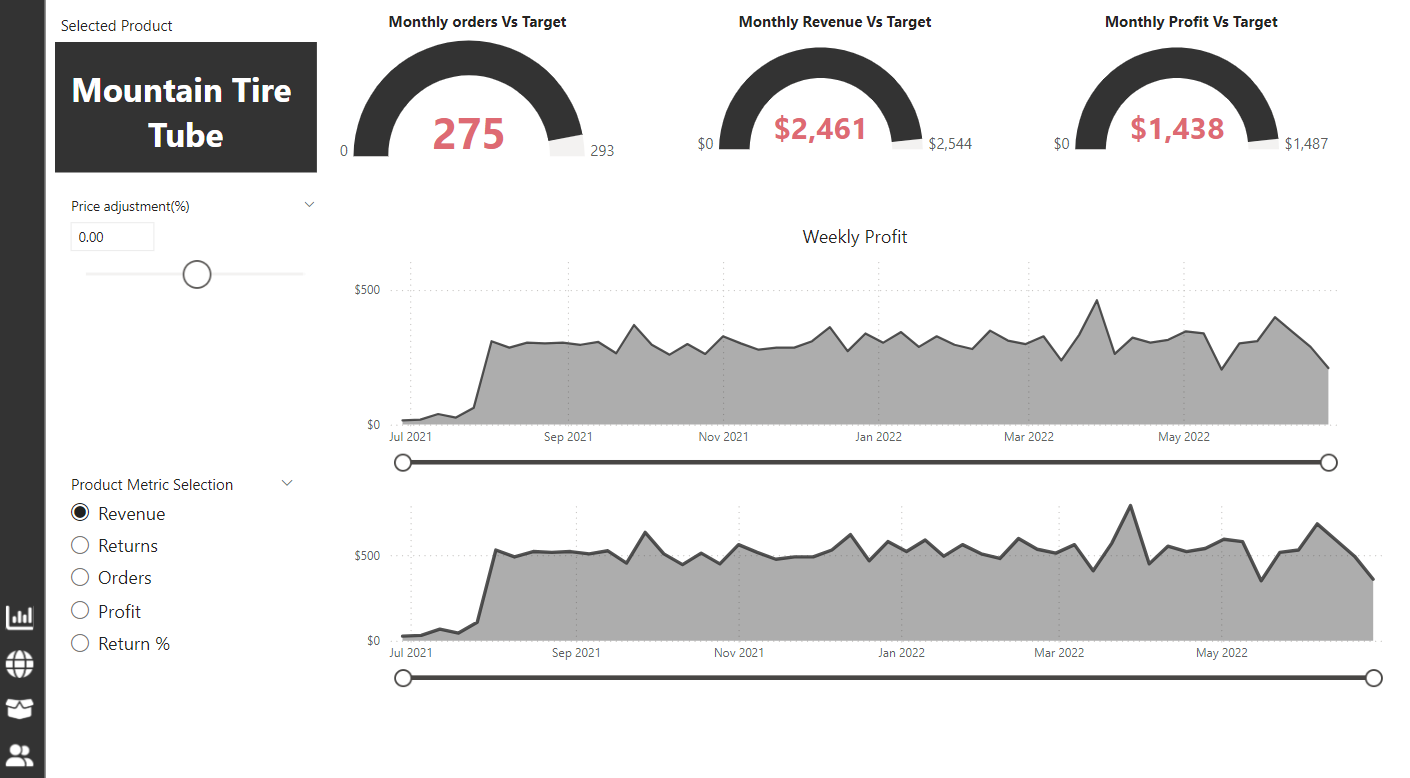

The page's visual inventory and layout, read from the dashboard file:
{"tool":"powerbi","page":{"name":"Product Detail","canvas":[1280,720],"ordinal":2},"visuals":[{"type":"shape","box":[0,0,45,720.5],"z":0},{"type":"gauge","title":"Monthly orders Vs Target","fields":{"Y":["Measure Table.Total Orders"],"MaxValue":["Measure Table.Order Target"]},"box":[296.8,16.9,264.2,143.6],"z":1000},{"type":"actionButton","box":[5.1,540.5,49.5,32.6],"z":1000,"group":"g1"},{"type":"gauge","title":"Monthly Revenue Vs Target","fields":{"Y":["Measure Table.Total Revenue"],"MaxValue":["Measure Table.Revenue Target"]},"box":[614.1,16.9,264.2,143.6],"z":2000},{"type":"actionButton","box":[5.1,581.1,49.5,32.6],"z":2000,"group":"g1"},{"type":"gauge","title":"Monthly Profit Vs Target","fields":{"Y":["Measure Table.Total Profit"],"MaxValue":["Measure Table.Profit Target"]},"box":[931.4,16.9,264.2,143.6],"z":3000},{"type":"actionButton","box":[5.1,621.7,49.5,32.6],"z":3000,"group":"g1"},{"type":"areaChart","title":"Weekly Profit","fields":{"Category":["Calendar Lookup.Date Hierarchy.Start of Year","Calendar Lookup.Date Hierarchy.Start of Month","Calendar Lookup.Date Hierarchy.Start of Week","Calendar Lookup.Date Hierarchy.Date"],"Y":["Measure Table.Total Profit"]},"box":[314.9,205.1,900,223.2],"z":4000},{"type":"actionButton","box":[5.1,662.4,49.5,32.6],"z":4000,"group":"g1"},{"type":"areaChart","title":"Return Trending","fields":{"Category":["Calendar Lookup.Start of Week"],"Y":["Measure Table.Total Revenue"]},"box":[314.9,441.6,939.8,179.8],"z":5000},{"type":"card","fields":{"Values":["Min(Product Lookup.ProductName)"]},"box":[53.1,44.6,232.8,115.8],"z":6000},{"type":"textbox","box":[53.1,15.7,129.1,29],"z":7000},{"type":"group","id":"g1","title":"Navigation Buttons","box":[5.1,540.5,49.5,154.4],"z":8000},{"type":"slicer","fields":{"Values":["Price adjustment(%).Price adjustment(%)"]},"box":[54.3,176.1,242.5,129.1],"z":9000},{"type":"slicer","fields":{"Values":["Product Metric Selection.Product Metric Selection"]},"box":[54.3,423.5,223.2,173.7],"z":9001}]}

Visuals, with their boxes on the page's 1280x720 design canvas (x1, y1, x2, y2). These are canvas units, not pixel positions in the 1410x778 screenshot, which may show the page scaled, cropped or inside an application window:
shape: crop(0, 0, 45, 720)
"Monthly orders Vs Target" gauge: crop(297, 17, 561, 160)
actionButton: crop(5, 540, 55, 573)
"Monthly Revenue Vs Target" gauge: crop(614, 17, 878, 160)
actionButton: crop(5, 581, 55, 614)
"Monthly Profit Vs Target" gauge: crop(931, 17, 1196, 160)
actionButton: crop(5, 622, 55, 654)
"Weekly Profit" areaChart: crop(315, 205, 1215, 428)
actionButton: crop(5, 662, 55, 695)
"Return Trending" areaChart: crop(315, 442, 1255, 621)
card - Min(Product Lookup.ProductName): crop(53, 45, 286, 160)
textbox: crop(53, 16, 182, 45)
"Navigation Buttons" group: crop(5, 540, 55, 695)
slicer - Price adjustment(%).Price adjustment(%): crop(54, 176, 297, 305)
slicer - Product Metric Selection.Product Metric Selection: crop(54, 424, 278, 597)
